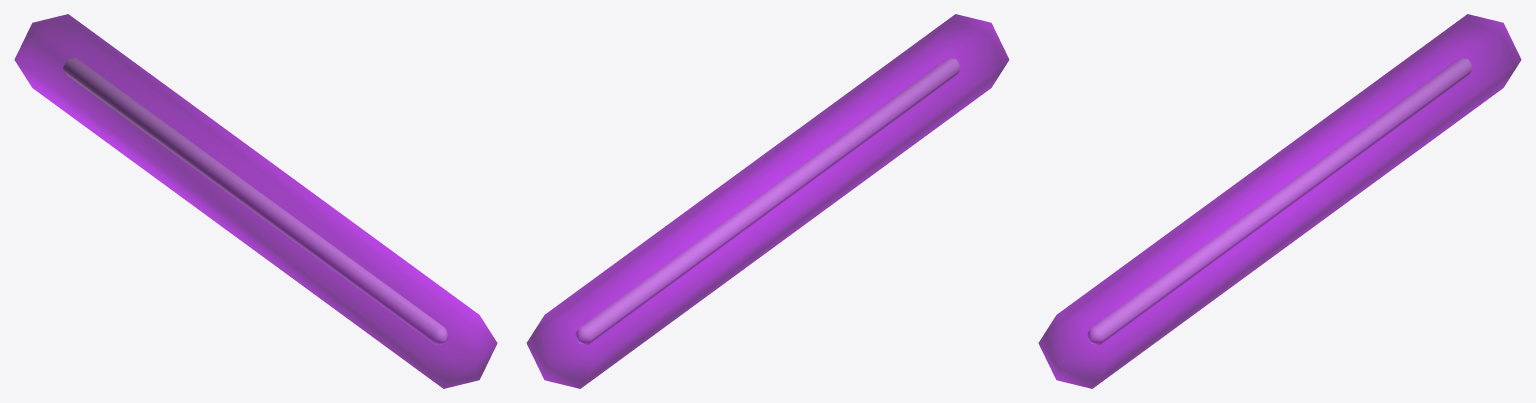
File: purple_turret_laser_model.fbx
The picture shows the model from 3 angles, left to right: view 1: azimuth 30°, elevation 25°; view 2: azimuth 150°, elevation 25°; view 3: azimuth 330°, elevation 25°; orthographic projection.
Parts seen in each view (by area): view 1: glow, bolt; view 2: glow, bolt; view 3: glow, bolt.
Boxes of the visible parts, left/top/right/bottom form: glow: left=14, top=14, right=497, bottom=388; bolt: left=63, top=57, right=448, bottom=345; glow: left=526, top=14, right=1009, bottom=388; bolt: left=575, top=57, right=960, bottom=345; glow: left=1038, top=14, right=1521, bottom=388; bolt: left=1087, top=57, right=1472, bottom=345.
Size of the model in its own units: 7.56 by 6.55 by 80.08.
